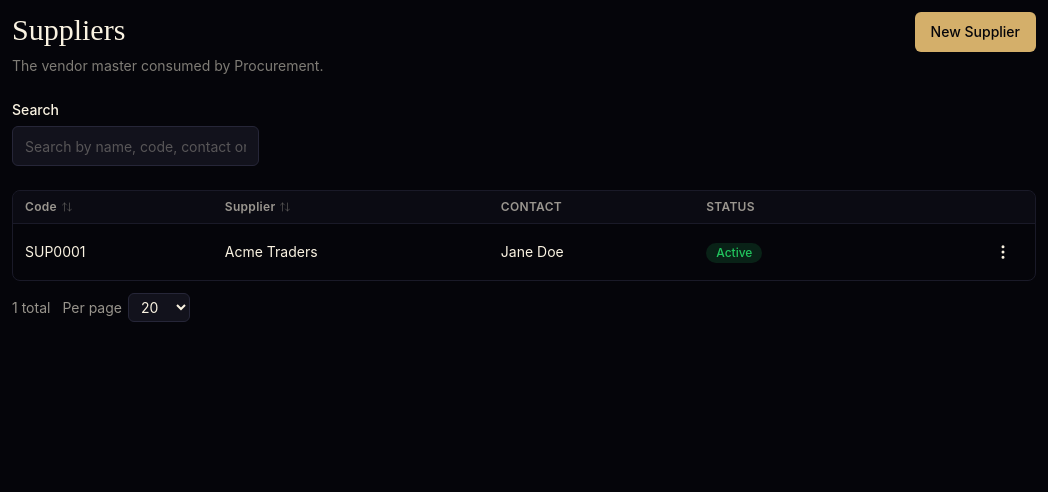
Test: SuppliersPage › creating a supplier shows a server-side name conflict as a form error
The image size is (1048, 492).
Expected: the text "Acme Traders" is shown, [213,224,489,280]
Click the button "New Supplier" at (975, 32), box [915,12,1036,52]
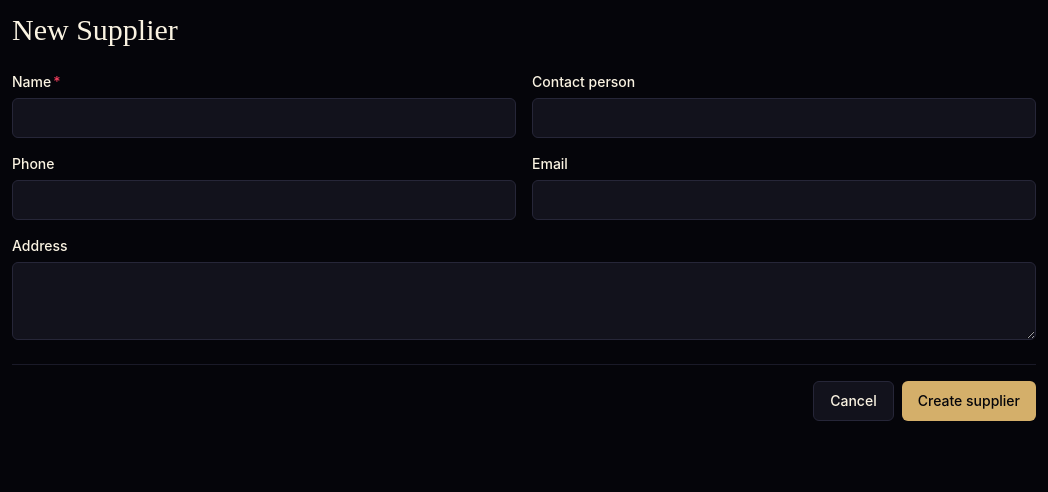
Type "Acme Traders" into the field labelled "Name" at (264, 118), box [12,98,516,138]
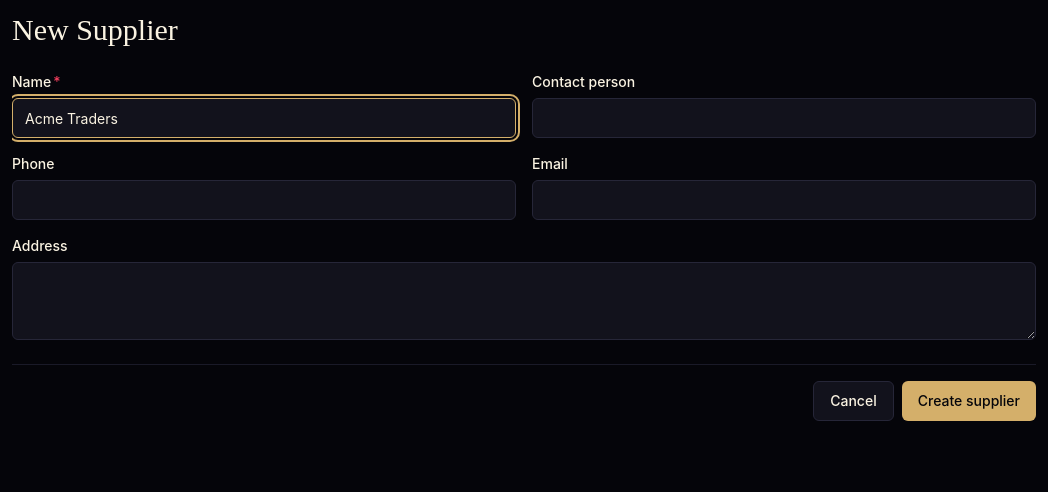
Click the button "Create supplier" at (969, 401), box [902,381,1036,421]
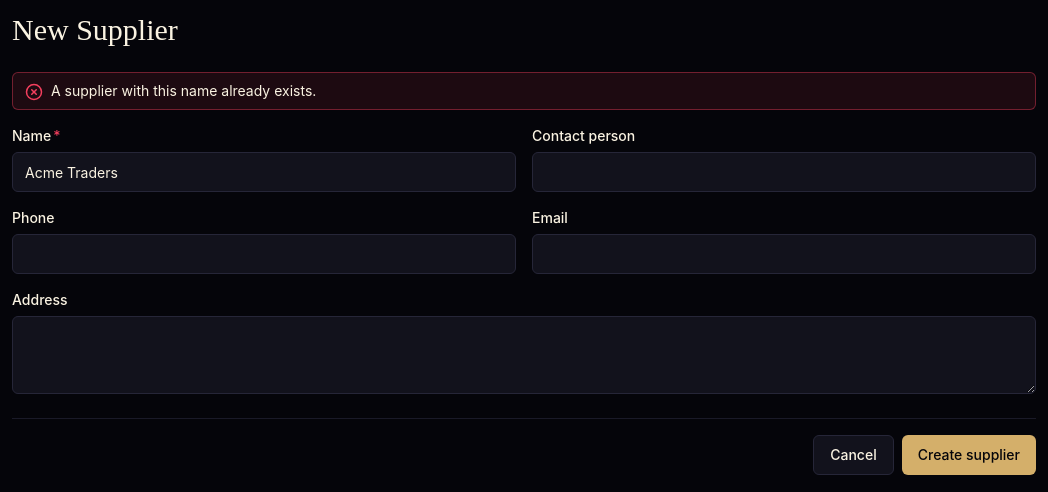
Expected: the text "A supplier with this name already exists." is shown, [51,81,316,101]
